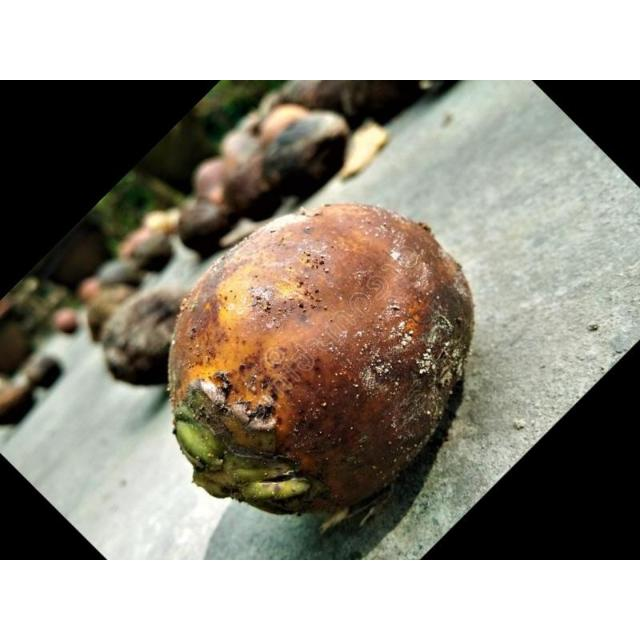damaged: (168, 206, 473, 518)
